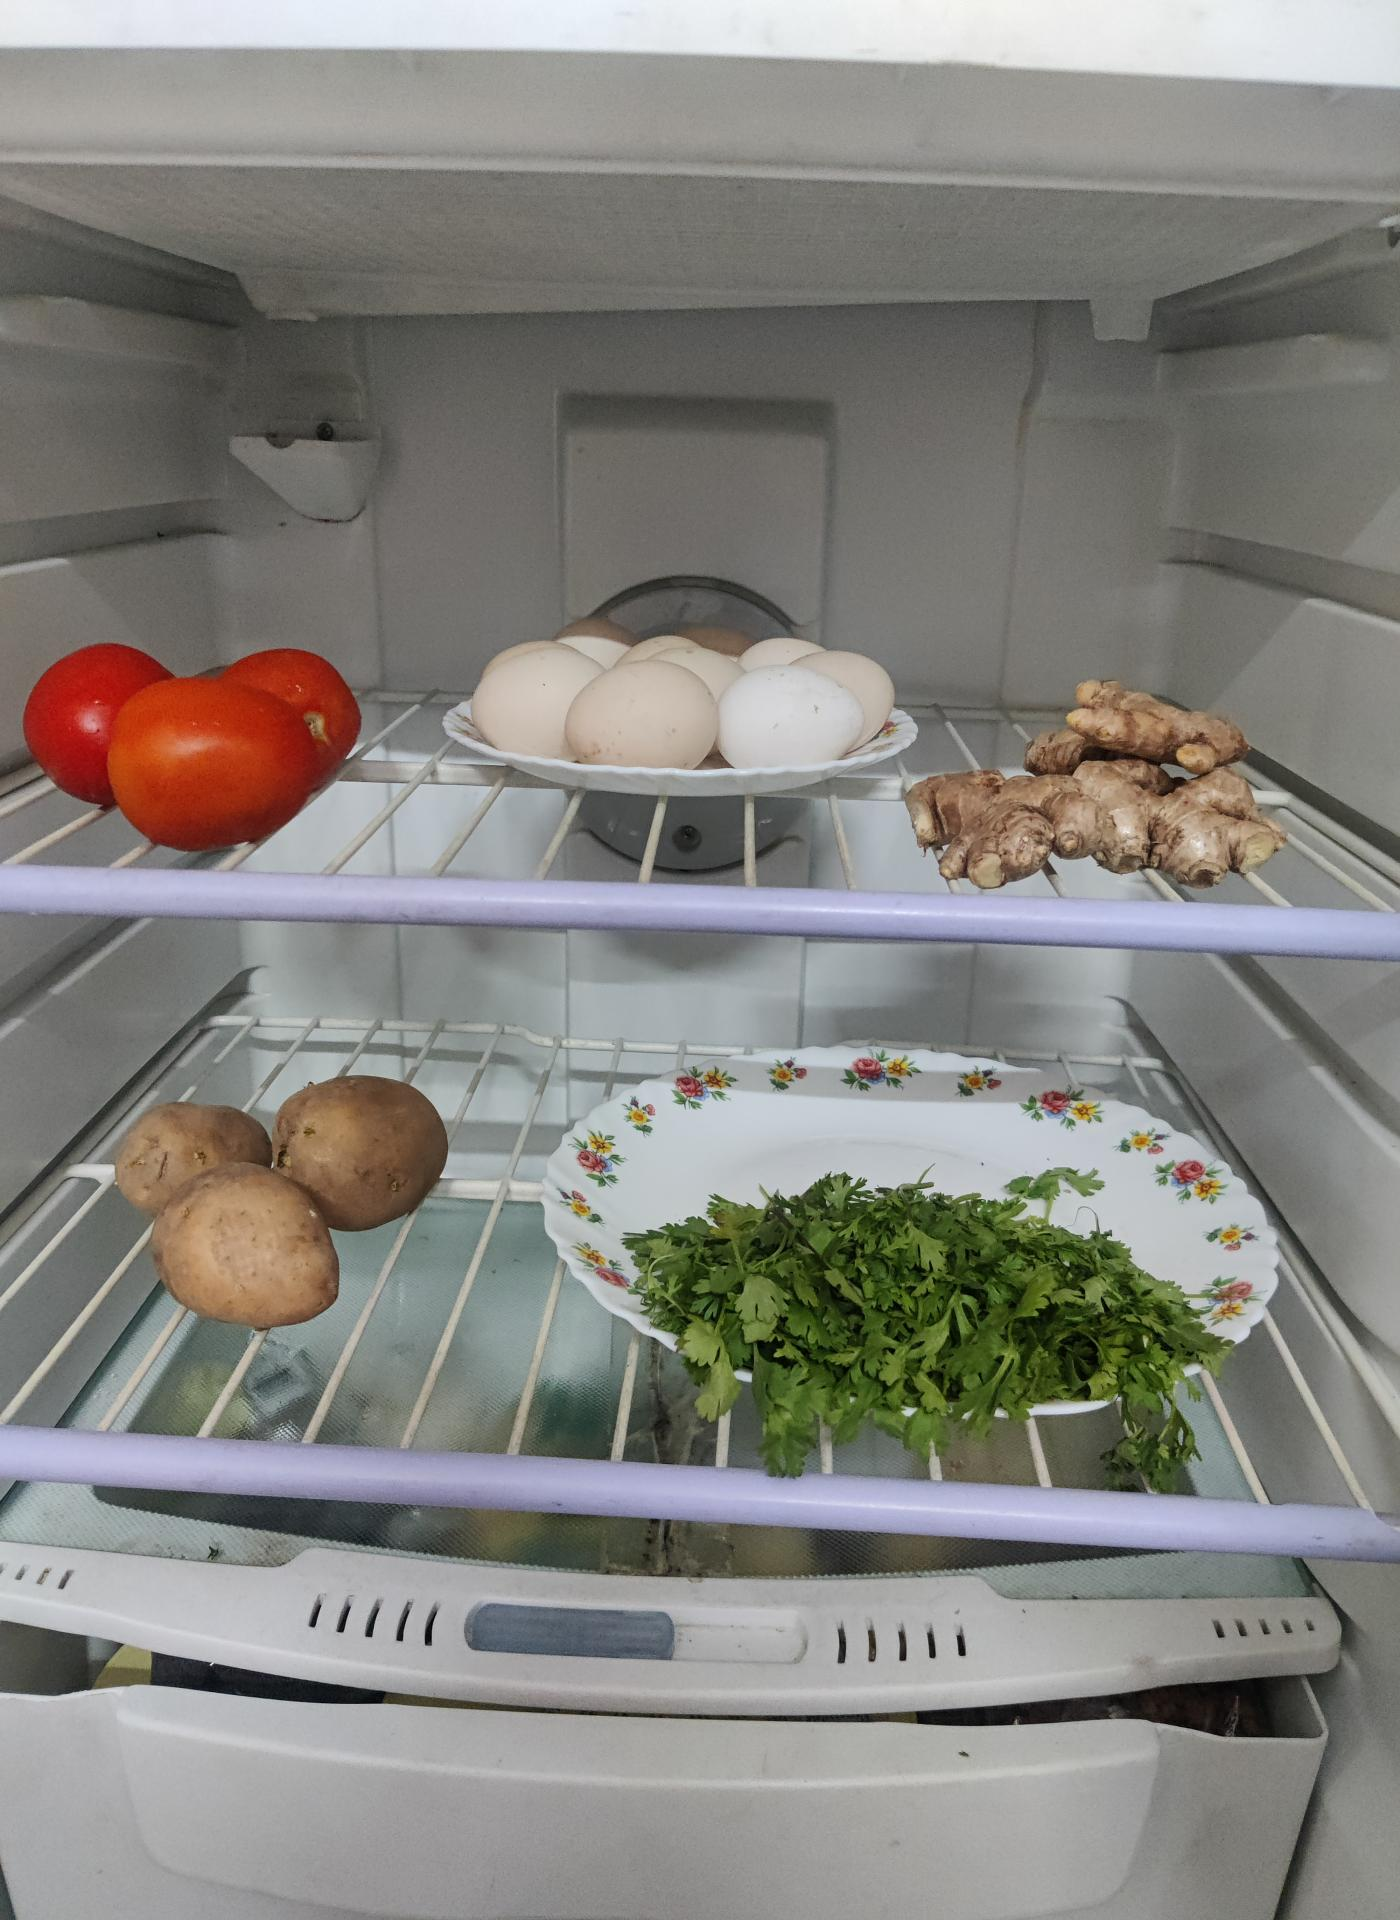coriander: (625, 1170, 1264, 1453)
egg: (473, 625, 901, 872)
ginger: (915, 684, 1285, 891)
potato: (116, 1078, 449, 1331)
tomato: (24, 635, 370, 842)
